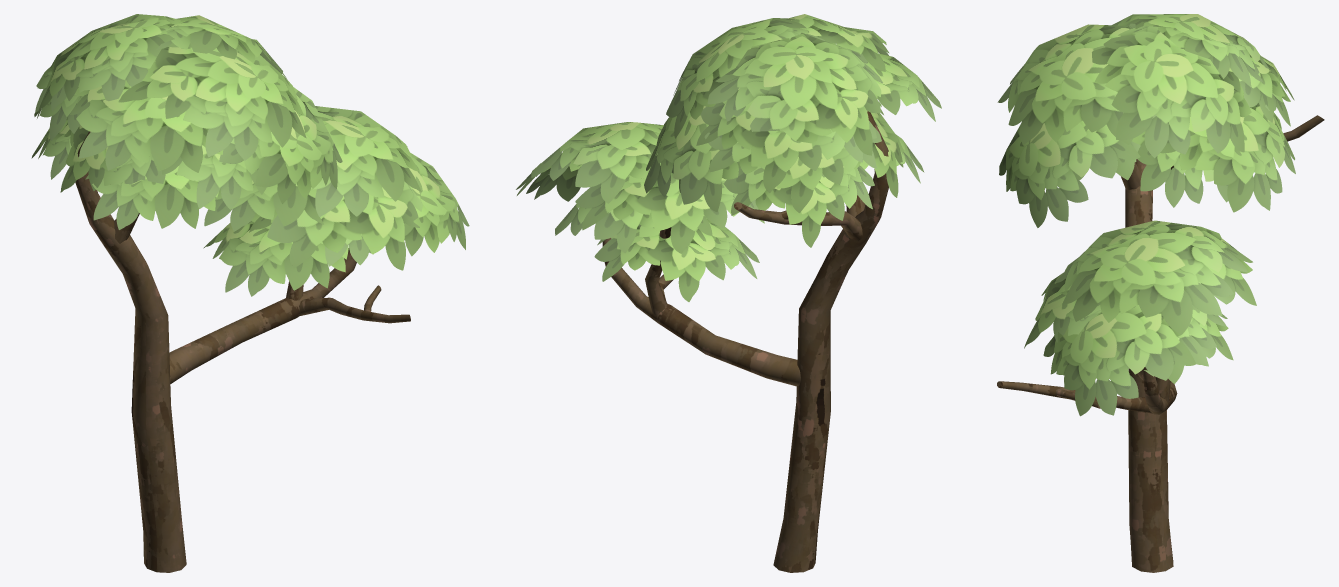
The model's file is Tree_6.gltf.
3 renders of one model, left to right at view 1: azimuth 30°, elevation 25°; view 2: azimuth 150°, elevation 25°; view 3: azimuth 270°, elevation 25°, orthographic.
Parts seen in each view (by area): view 1: Tree_6; view 2: Tree_6; view 3: Tree_6.
Part boxes in pixels (x1,y1,x2,y2): Tree_6: (31, 14, 469, 572); Tree_6: (516, 14, 941, 572); Tree_6: (997, 14, 1324, 572).
Bounding box in the file's own units: 6.84 × 8.38 × 4.8.
2 materials, 2 textured.
